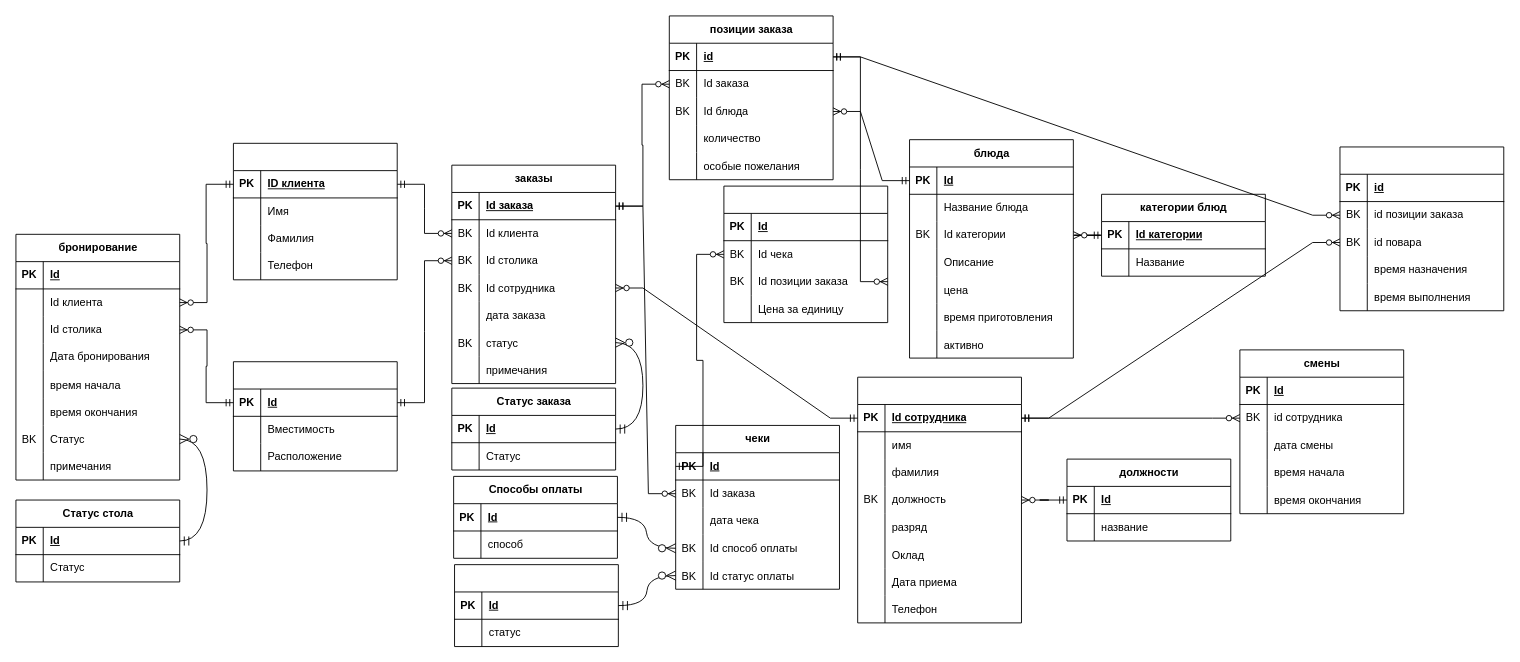
This 1520x662 diagram has some shape labels left out. Each missing label, with the box of its shape:
детализация чеков: (723, 185, 888, 323)
клиенты: (233, 142, 397, 280)
Назначение поваров: (1339, 146, 1504, 311)
Сотрудники: (857, 376, 1021, 623)
статус оплаты: (454, 564, 618, 647)
столики: (233, 361, 397, 471)
